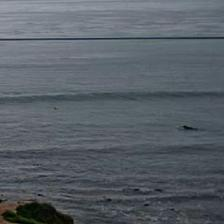surfer: (182, 125, 197, 130)
